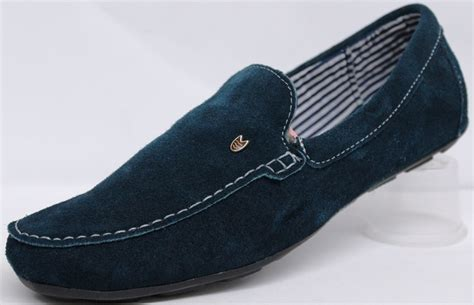gamuza: (5, 3, 469, 294)
